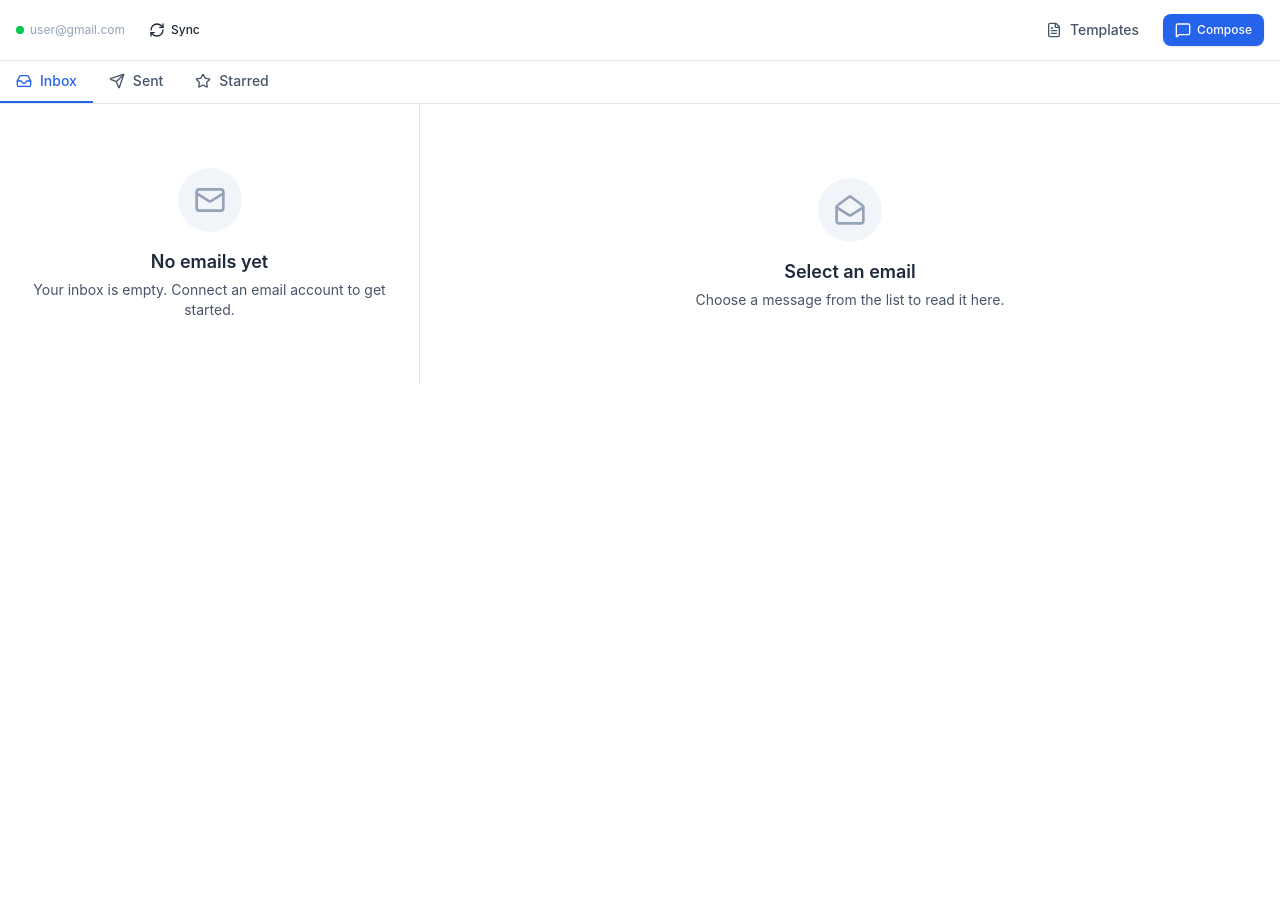
Test: EmailPage — Compose Modal › opens compose modal when Compose button is clicked
Expected: the text "Compose Email" is not shown
Click the button "Compose". click: (1214, 30)
box: [1163,14,1264,46]
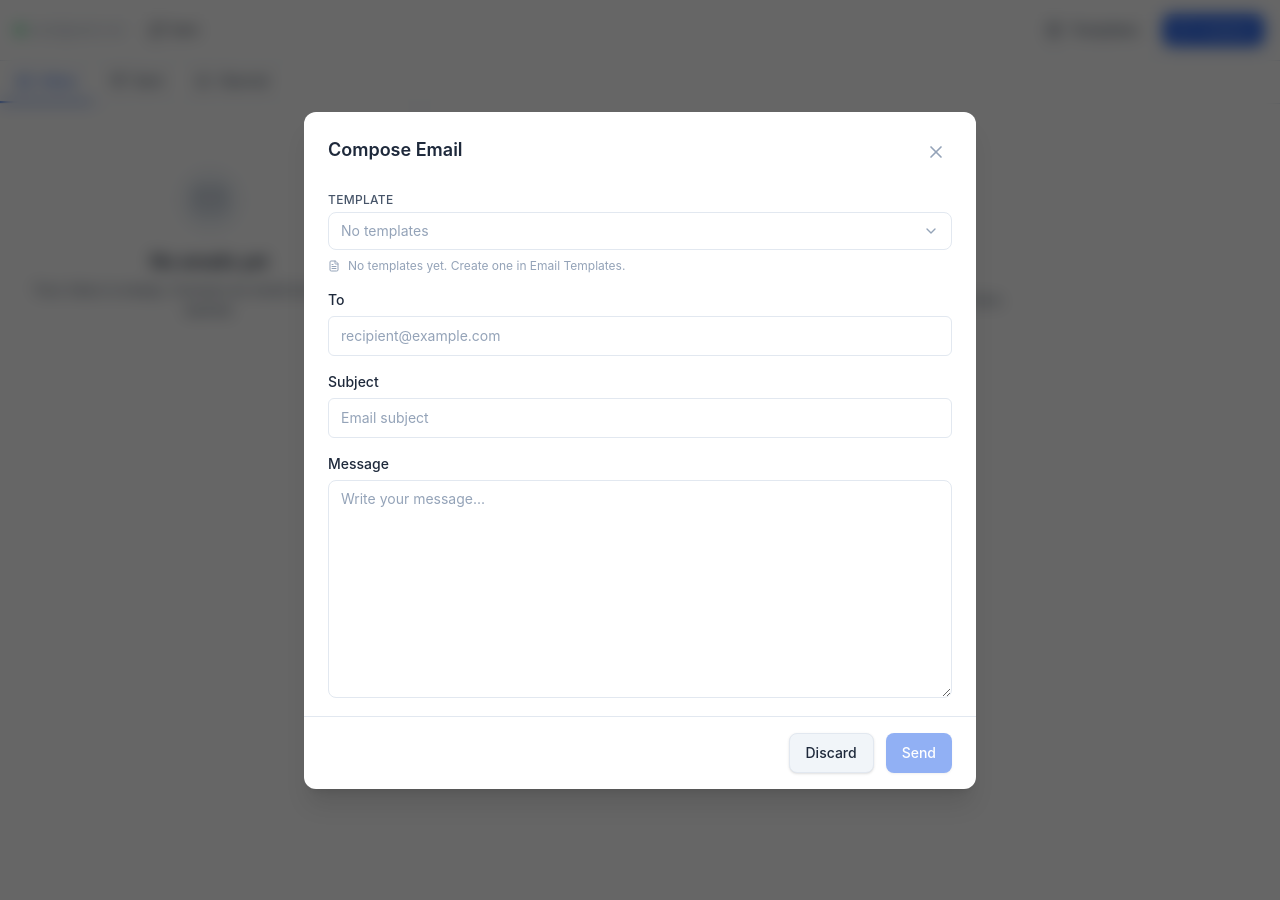
Now the heading "Compose Email" is shown, box [328,138,463,160]
Now the field labelled "To" is shown, box [328,316,952,356]
Now the field labelled "Subject" is shown, box [328,398,952,438]
